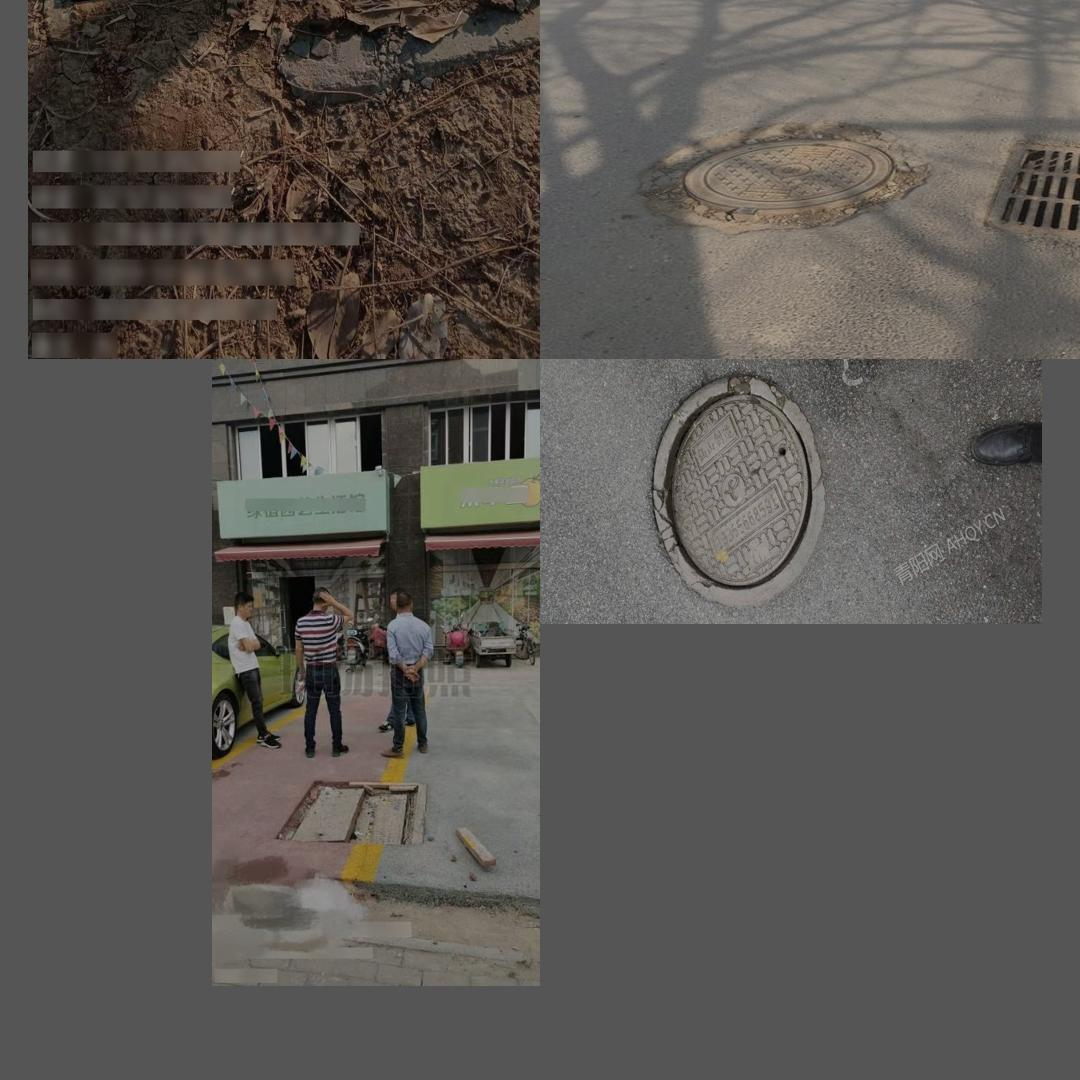circle: (621, 369, 839, 613), (637, 112, 938, 238), (35, 0, 540, 21), (282, 781, 426, 848)
